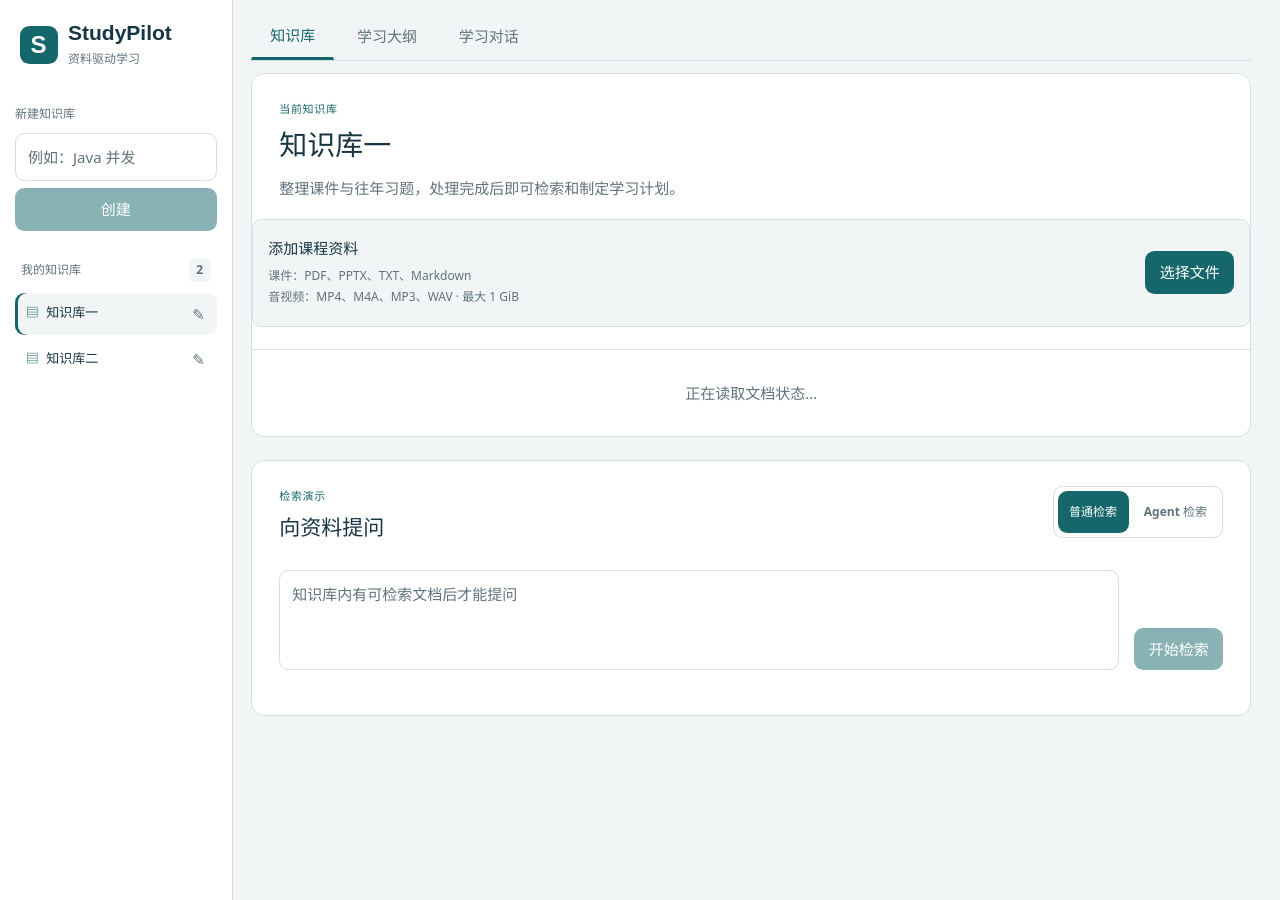
Test case: App knowledge-base request association › ignores an earlier knowledge base response and its finally after selection changes
Click the button "▤ 知识库二": (98, 360) [15,338,180,380]
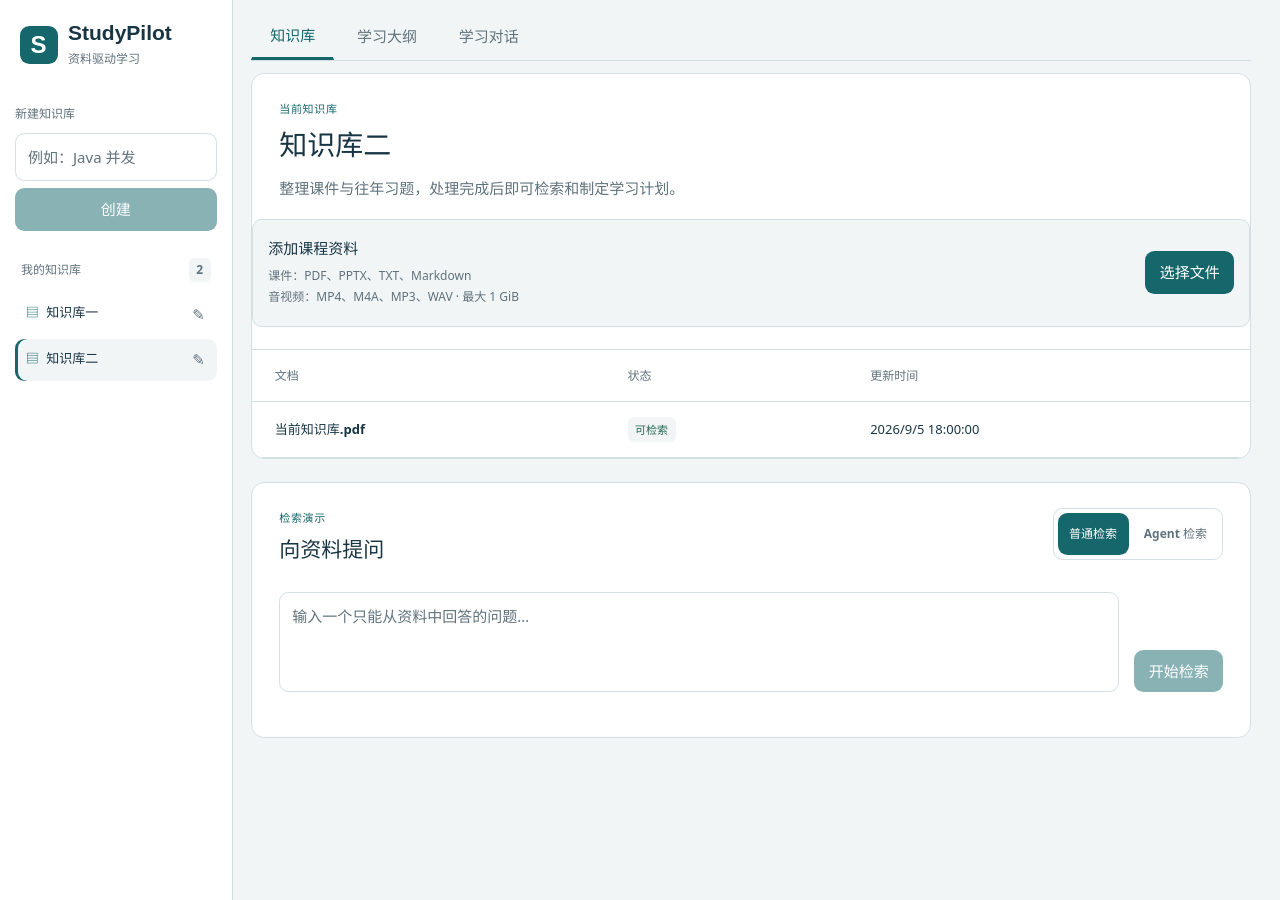
expect the text "正在读取文档状态…" is shown: met, box [252,349,1250,458]
expect the text "当前知识库.pdf" is shown: met, box [275,420,365,438]
